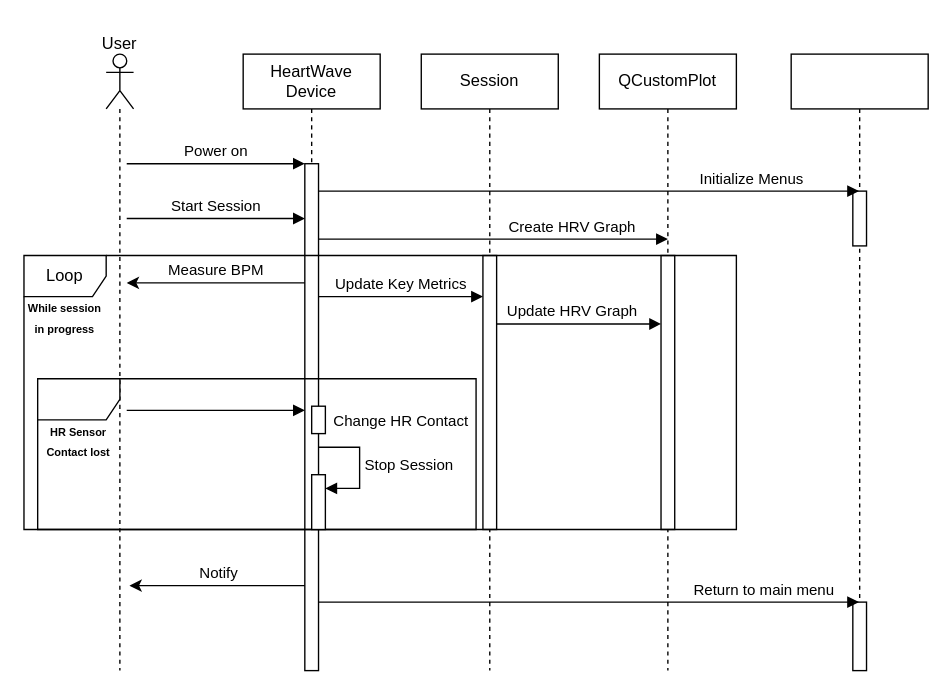
Image size: 952x695. Some labels were removed from this diagram. The shapes that lost their labels are listed below. From the top down, each one's box as (x1, y1, x2, y2) in pixels, then its label:
(790, 53, 928, 671): Menus
(36, 377, 476, 530): Alt
